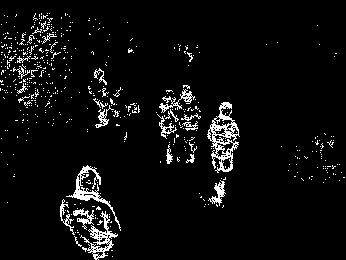person: (63, 162, 121, 260), (208, 100, 240, 207), (175, 83, 199, 166), (157, 87, 179, 164), (87, 68, 111, 129)
